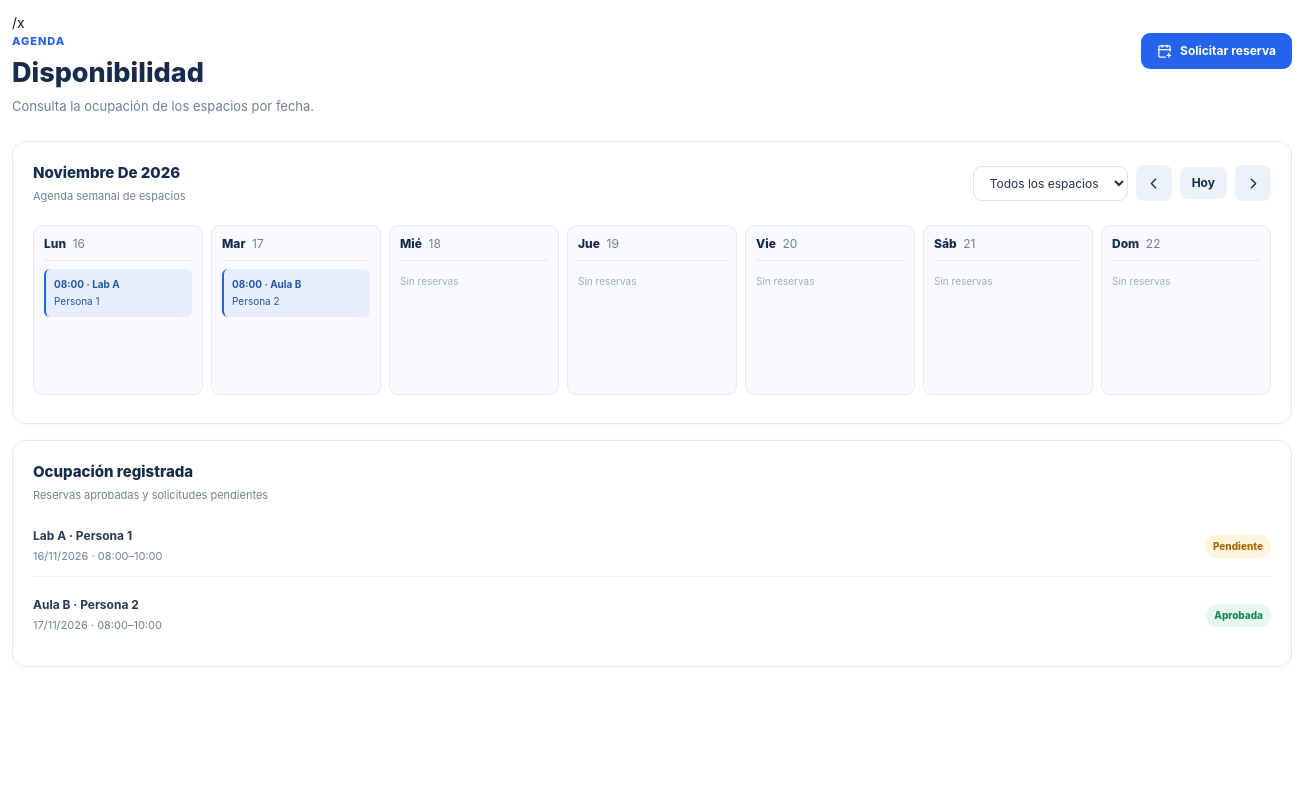
Test: AvailabilityPage › filtra por espacio
Select "Aula B" in the dropdown named "Filtrar por espacio" at (1050, 183), box [973,166,1128,201]
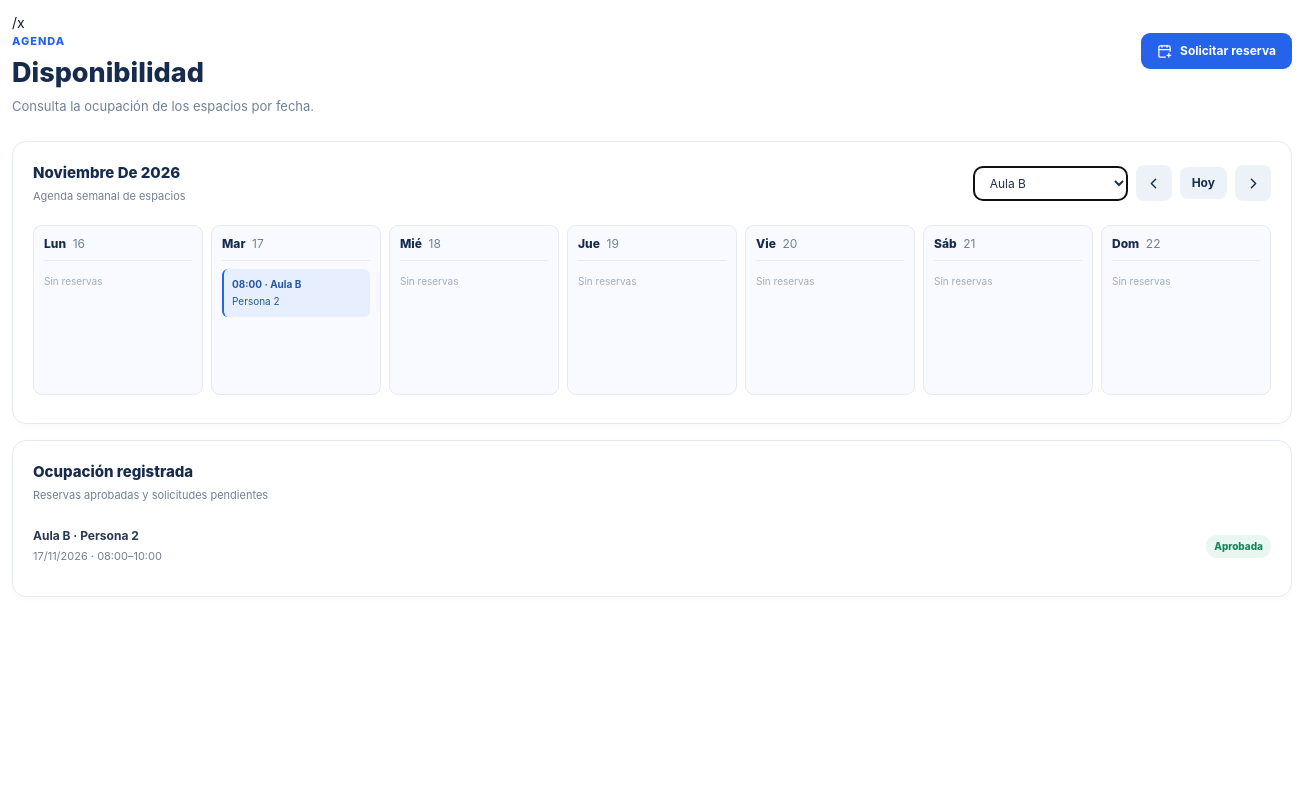
Expected: the text "Persona 1" is gone
